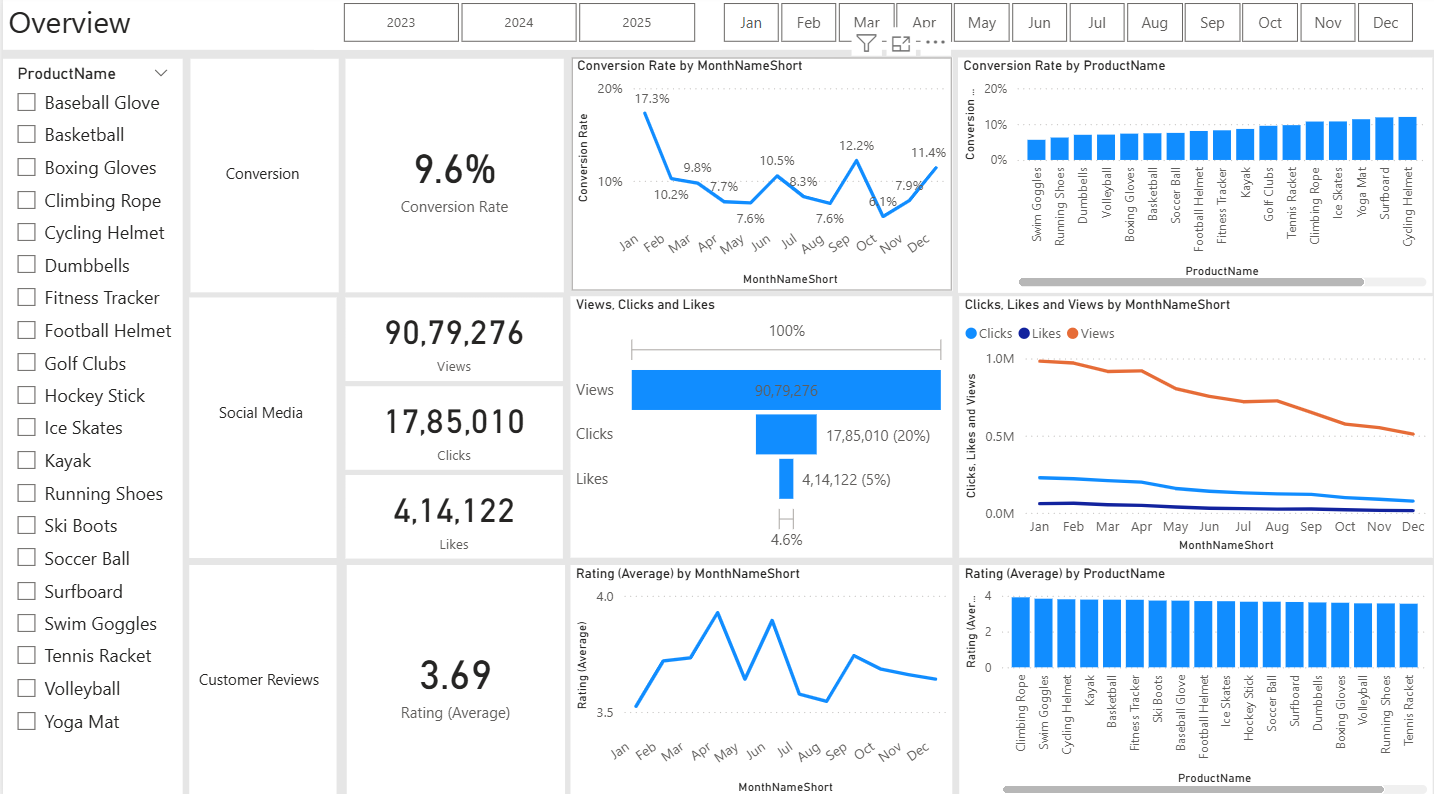

The dashboard page shown, as its layout file describes it:
{"tool":"powerbi","page":{"name":"Overview","canvas":[1280,720],"ordinal":0},"visuals":[{"type":"textbox","box":[0,0,1280,48.6],"z":0},{"type":"slicer","fields":{"Values":["dim_products.ProductName"]},"box":[0,56.7,160,660],"z":1000},{"type":"textbox","box":[166.4,56.4,132.1,207.9],"z":2000},{"type":"textbox","box":[166.2,269.2,131.5,232.3],"z":3000},{"type":"textbox","box":[166.2,507.7,131.5,207.7],"z":4000},{"type":"card","fields":{"Values":["Calculation.Conversion Rate"]},"box":[304.6,56.2,194.6,207.9],"z":5000},{"type":"card","fields":{"Values":["Calculation.Views"]},"box":[304.6,269.2,193.8,74.6],"z":6000},{"type":"card","fields":{"Values":["Calculation.Rating (Average)"]},"box":[305.8,507.5,194.2,207.5],"z":7000},{"type":"card","fields":{"Values":["Calculation.Clicks"]},"box":[304.6,348.5,193.8,74.6],"z":8000},{"type":"card","fields":{"Values":["Calculation.Likes"]},"box":[304.6,426.9,193.8,74.6],"z":9000},{"type":"slicer","fields":{"Values":["Calendar.Year"]},"box":[277.1,0,362.9,48.6],"z":10000},{"type":"slicer","fields":{"Values":["Calendar.MonthNameShort"]},"box":[615.7,0,664.3,48.6],"z":11000},{"type":"lineChart","fields":{"Y":["Calculation.Conversion Rate"],"Category":["Calendar.MonthNameShort"]},"box":[506,56,339,208],"z":12000},{"type":"clusteredColumnChart","fields":{"Y":["Calculation.Conversion Rate"],"Category":["dim_products.ProductName"]},"box":[850.8,55.4,422.3,209.2],"z":13000},{"type":"lineChart","fields":{"Category":["Calendar.MonthNameShort"],"Y":["Calculation.Clicks","Calculation.Likes","Calculation.Views"]},"box":[851.4,268.6,421.4,232.9],"z":14000},{"type":"lineChart","fields":{"Category":["Calendar.MonthNameShort"],"Y":["Calculation.Rating (Average)"]},"box":[505.7,507.1,340,208.6],"z":15000},{"type":"clusteredColumnChart","fields":{"Y":["Calculation.Rating (Average)"],"Category":["dim_products.ProductName"]},"box":[851.8,507.3,421.8,209.1],"z":16000},{"type":"funnel","fields":{"Y":["Calculation.Views","Calculation.Clicks","Calculation.Likes"]},"box":[505.7,268.6,340,232.9],"z":17000}]}

Visuals, with their boxes in screenshot pixels (x1, y1, x2, y2), scaled from the page's 1280x720 canvas onto the 1434x794 screenshot:
textbox: <region>0, 0, 1433, 54</region>
slicer - dim_products.ProductName: <region>0, 63, 179, 790</region>
textbox: <region>186, 62, 334, 291</region>
textbox: <region>186, 297, 334, 553</region>
textbox: <region>186, 560, 334, 789</region>
card - Calculation.Conversion Rate: <region>341, 62, 559, 291</region>
card - Calculation.Views: <region>341, 297, 558, 379</region>
card - Calculation.Rating (Average): <region>343, 560, 560, 788</region>
card - Calculation.Clicks: <region>341, 384, 558, 467</region>
card - Calculation.Likes: <region>341, 471, 558, 553</region>
slicer - Calendar.Year: <region>310, 0, 717, 54</region>
slicer - Calendar.MonthNameShort: <region>690, 0, 1433, 54</region>
lineChart - Calculation.Conversion Rate x Calendar.MonthNameShort: <region>567, 62, 947, 291</region>
clusteredColumnChart - Calculation.Conversion Rate x dim_products.ProductName: <region>953, 61, 1426, 292</region>
lineChart - Calendar.MonthNameShort x Calculation.Clicks: <region>954, 296, 1426, 553</region>
lineChart - Calendar.MonthNameShort x Calculation.Rating (Average): <region>567, 559, 947, 789</region>
clusteredColumnChart - Calculation.Rating (Average) x dim_products.ProductName: <region>954, 559, 1427, 790</region>
funnel - Calculation.Views x Calculation.Clicks: <region>567, 296, 947, 553</region>
